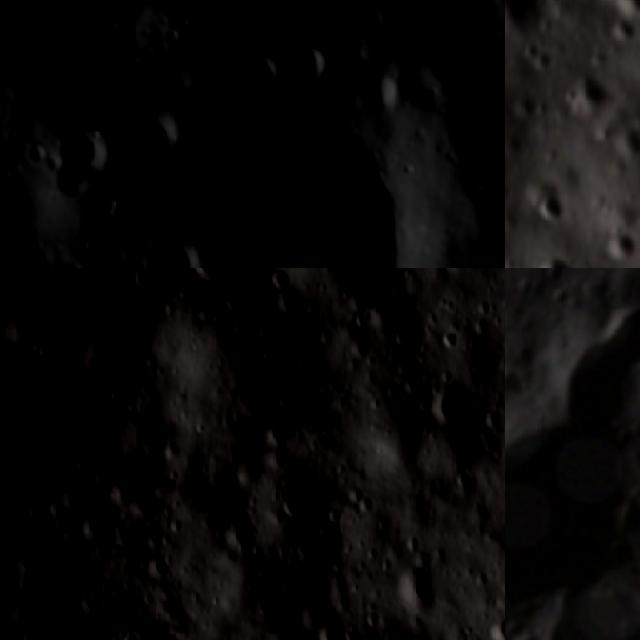crater: (102, 38, 437, 268), (0, 341, 91, 487), (218, 38, 280, 119), (45, 131, 112, 200), (276, 35, 336, 97), (119, 228, 204, 268), (395, 558, 440, 617), (563, 67, 619, 114), (427, 371, 472, 427), (221, 505, 260, 563), (352, 78, 399, 124), (476, 179, 505, 244), (505, 0, 549, 39), (277, 287, 319, 326), (279, 481, 311, 523), (307, 609, 350, 640), (191, 268, 242, 292), (0, 561, 22, 613), (113, 629, 204, 640), (267, 413, 295, 448), (269, 442, 298, 473), (127, 268, 159, 296), (537, 253, 588, 268), (263, 268, 292, 294), (484, 613, 505, 640)
